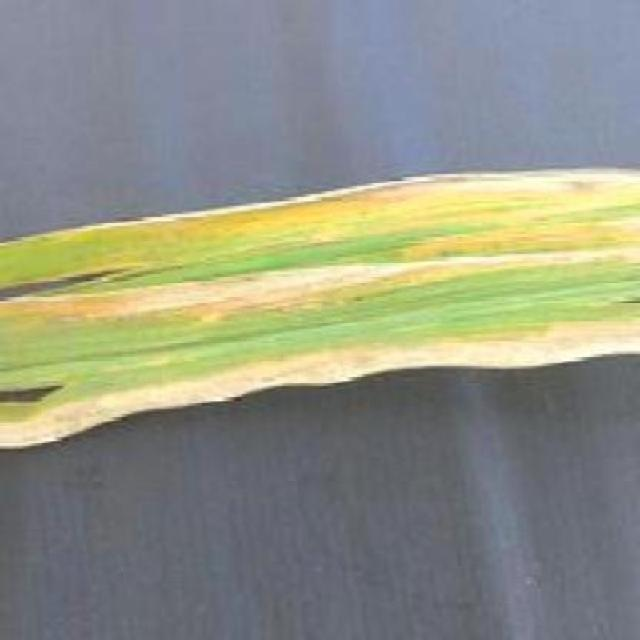Brown_Spot: (7, 209, 624, 357)
